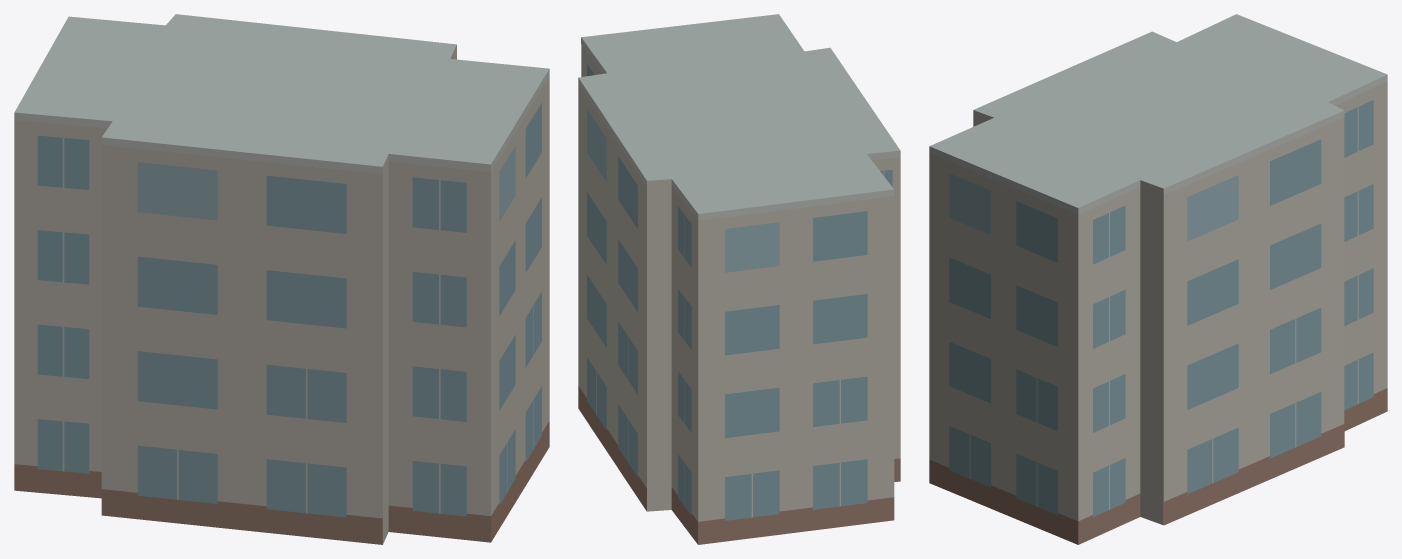
Rendered from survey-upis-32752709.glb.
3 renders of one model, left to right at view 1: azimuth 30°, elevation 25°; view 2: azimuth 150°, elevation 25°; view 3: azimuth 270°, elevation 25°, orthographic. The views are drawn at different scales.
Visible parts, largest first — view 1: survey-upis-32752709.tmp; view 2: survey-upis-32752709.tmp; view 3: survey-upis-32752709.tmp.
Boxes of the visible parts, x1=… form: survey-upis-32752709.tmp: x1=14, y1=14, x2=549, y2=544; survey-upis-32752709.tmp: x1=578, y1=14, x2=900, y2=544; survey-upis-32752709.tmp: x1=929, y1=14, x2=1387, y2=544.
Size of the model in its own units: 15.09 by 12.2 by 15.06.
